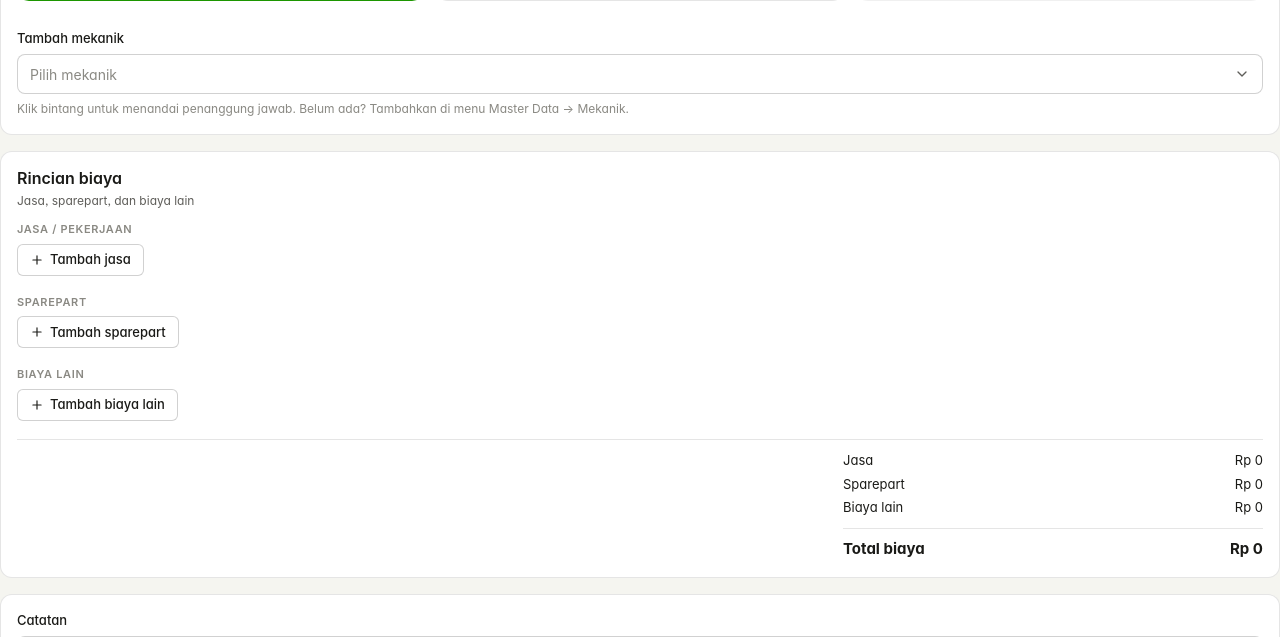
PerintahKerjaForm › ringkasan biaya menjumlahkan sparepart (qty × harga)
The width and height of the screenshot is (1280, 637).
(page scrolled)
Click the button "Tambah sparepart" at (98, 332), box [17,316,179,348]
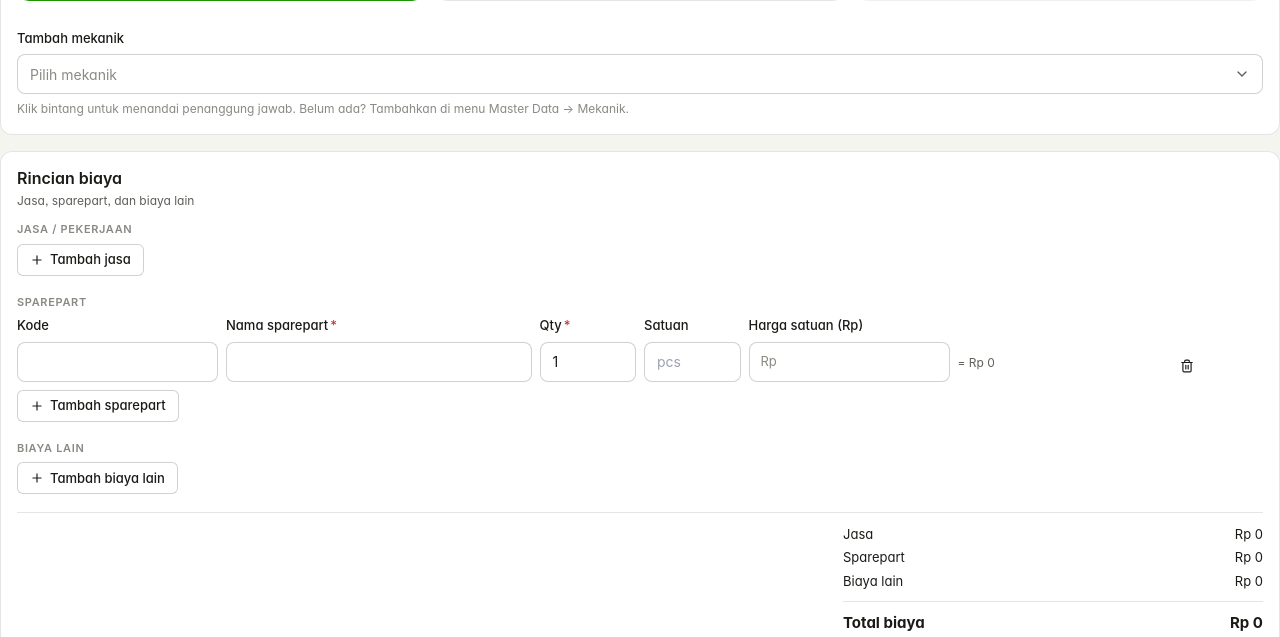
# Baris sparepart: kode, nama, qty, satuan, harga satuan.
Type "Oli" into the field below "Nama sparepart" at (379, 362), box [226,342,532,382]
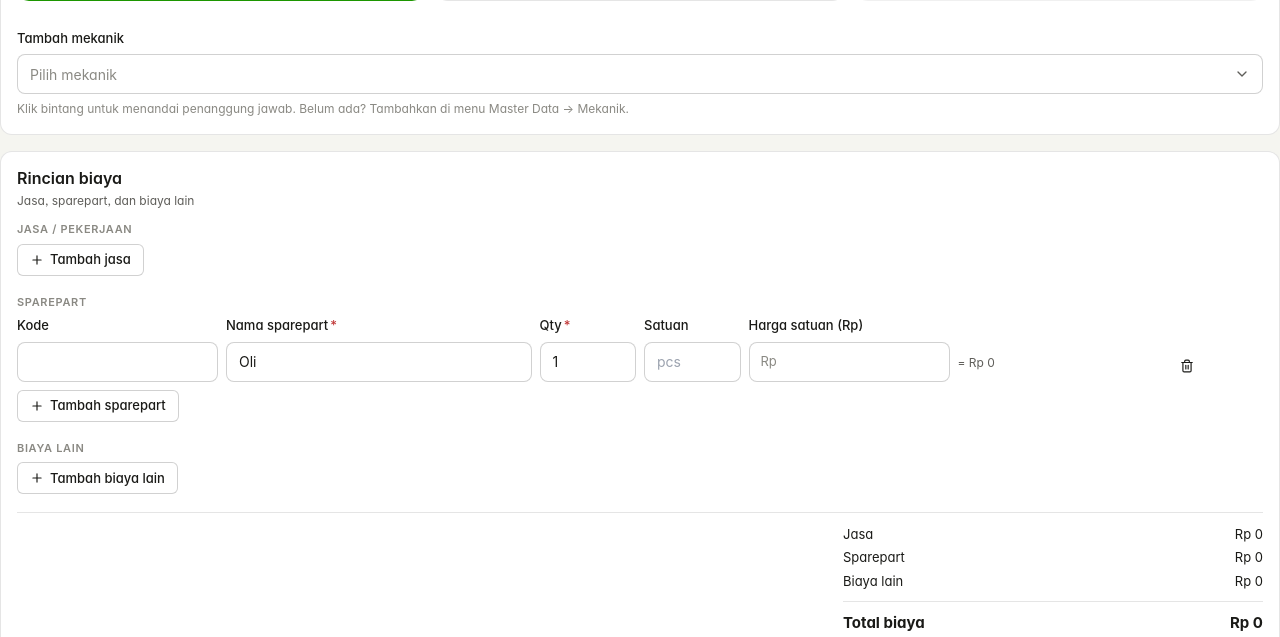
Replace the text in the field below "Qty" with "4" at (588, 362), box [540,342,636,382]
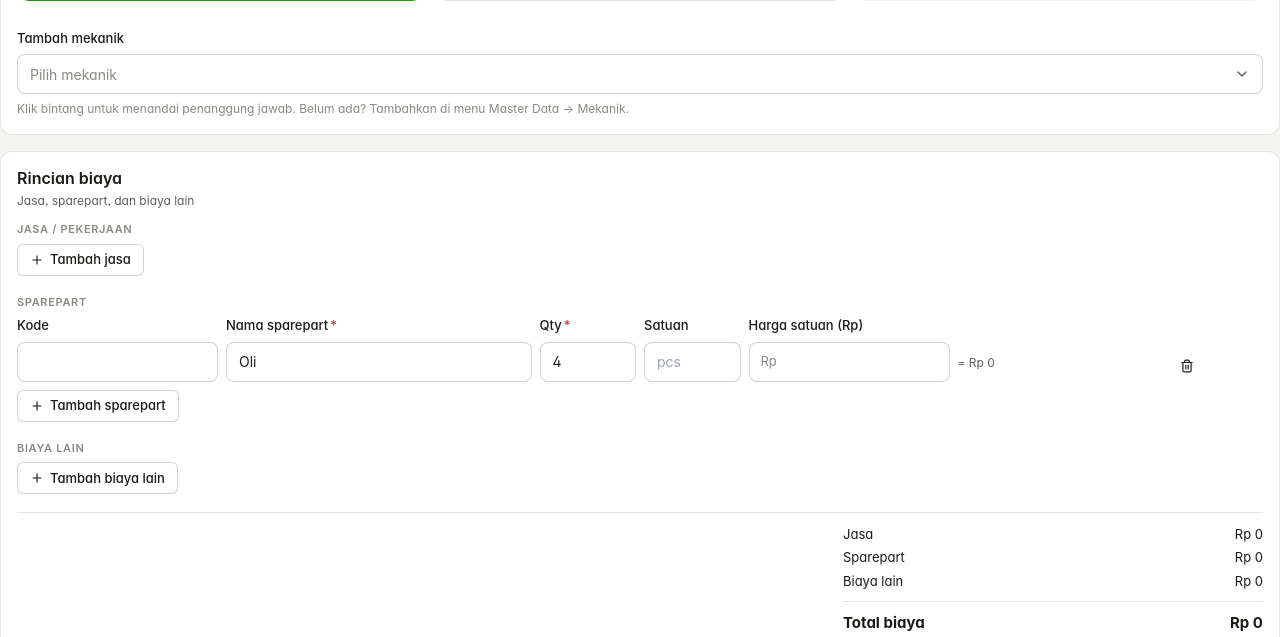
Type "75000" into the field below "Harga satuan (Rp)" at (849, 362), box [748,342,950,382]
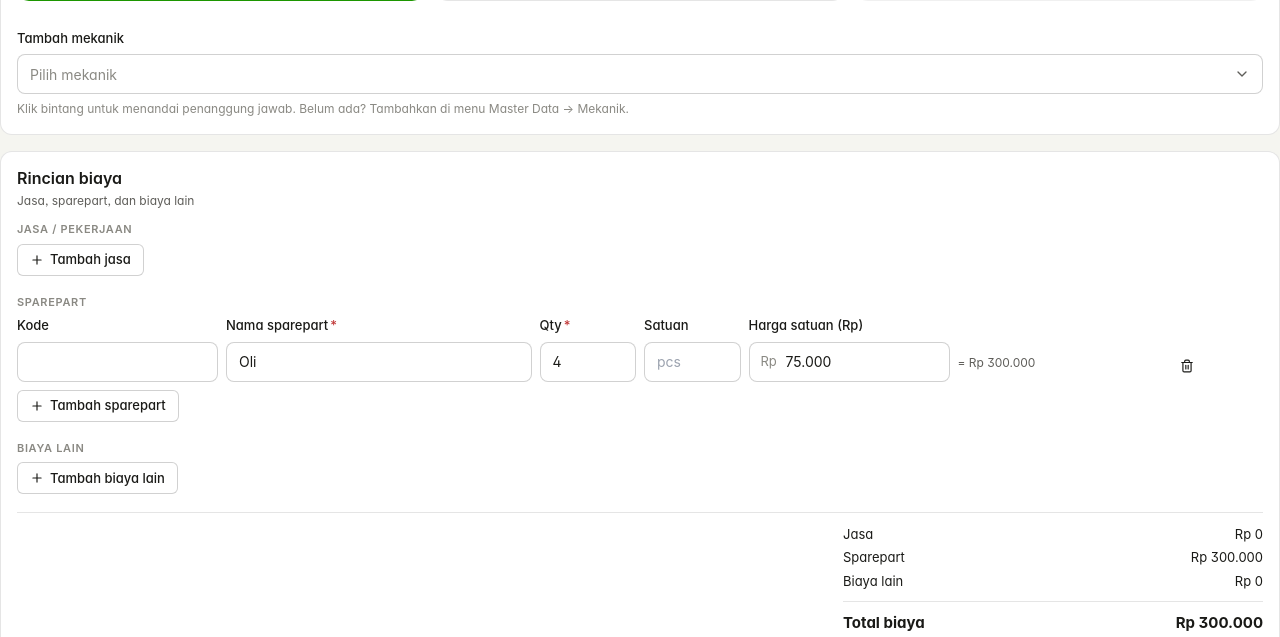
Check: the 1st text "Rp 300.000" is shown, box [1191,548,1263,568]
